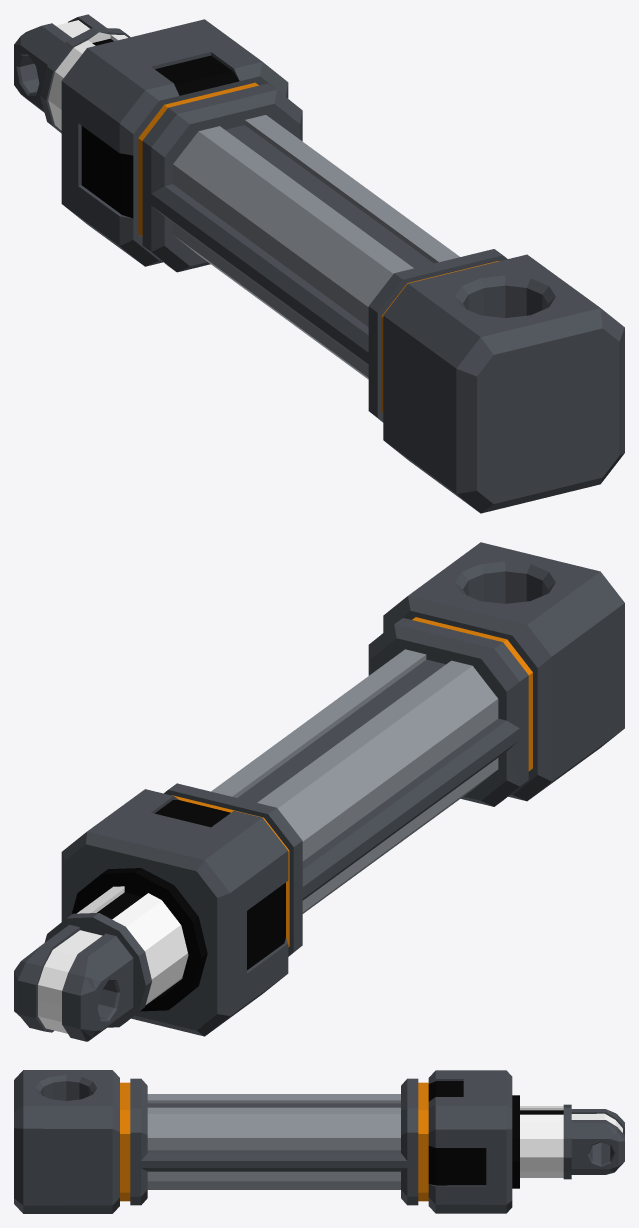
File: SM_Hydraulic_Piston.fbx
The picture shows the model from 3 angles, top to bottom: view 1: azimuth 30°, elevation 25°; view 2: azimuth 150°, elevation 25°; view 3: azimuth 270°, elevation 25°; orthographic projection. The views are drawn at different scales.
Parts seen in each view (by area): view 1: SM_Hydraulic_Piston_Body, SM_Hydraulic_Piston_Head; view 2: SM_Hydraulic_Piston_Body, SM_Hydraulic_Piston_Head; view 3: SM_Hydraulic_Piston_Body, SM_Hydraulic_Piston_Head.
Part boxes in pixels (<box>): SM_Hydraulic_Piston_Body: <box>61,19,624,513</box>; SM_Hydraulic_Piston_Head: <box>14,14,130,133</box>; SM_Hydraulic_Piston_Body: <box>61,542,624,1036</box>; SM_Hydraulic_Piston_Head: <box>14,886,188,1041</box>; SM_Hydraulic_Piston_Body: <box>14,1070,519,1213</box>; SM_Hydraulic_Piston_Head: <box>520,1104,624,1179</box>.
Size of the model in its own units: 13.35 by 13.35 by 68.43.
